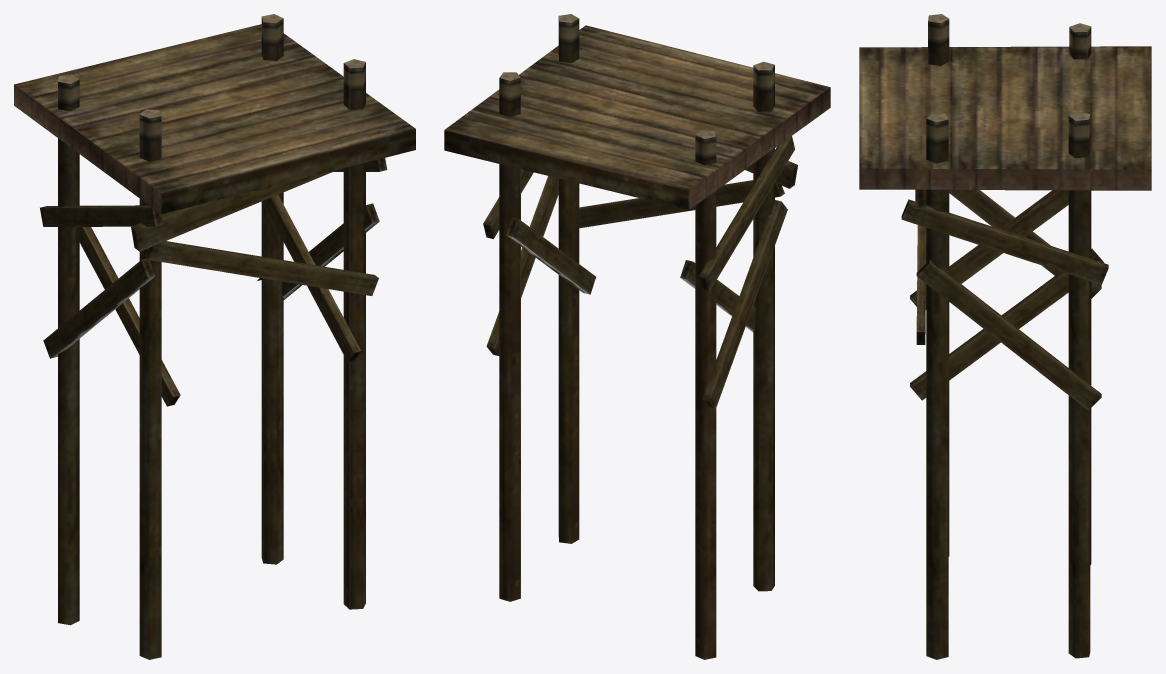
The model's file is nsm-general_obj_01_4.glb.
The picture shows the model from 3 angles, left to right: view 1: azimuth 30°, elevation 25°; view 2: azimuth 150°, elevation 25°; view 3: azimuth 270°, elevation 25°; orthographic projection. The views are drawn at different scales.
Parts seen in each view (by area): view 1: Mesh03; view 2: Mesh03; view 3: Mesh03.
Boxes of the visible parts, <box> form: Mesh03: <box>14,14,415,659</box>; Mesh03: <box>444,14,830,659</box>; Mesh03: <box>859,14,1151,659</box>.
Size of the model in its own units: 5 by 10.44 by 5.
1 material, 1 textured.
